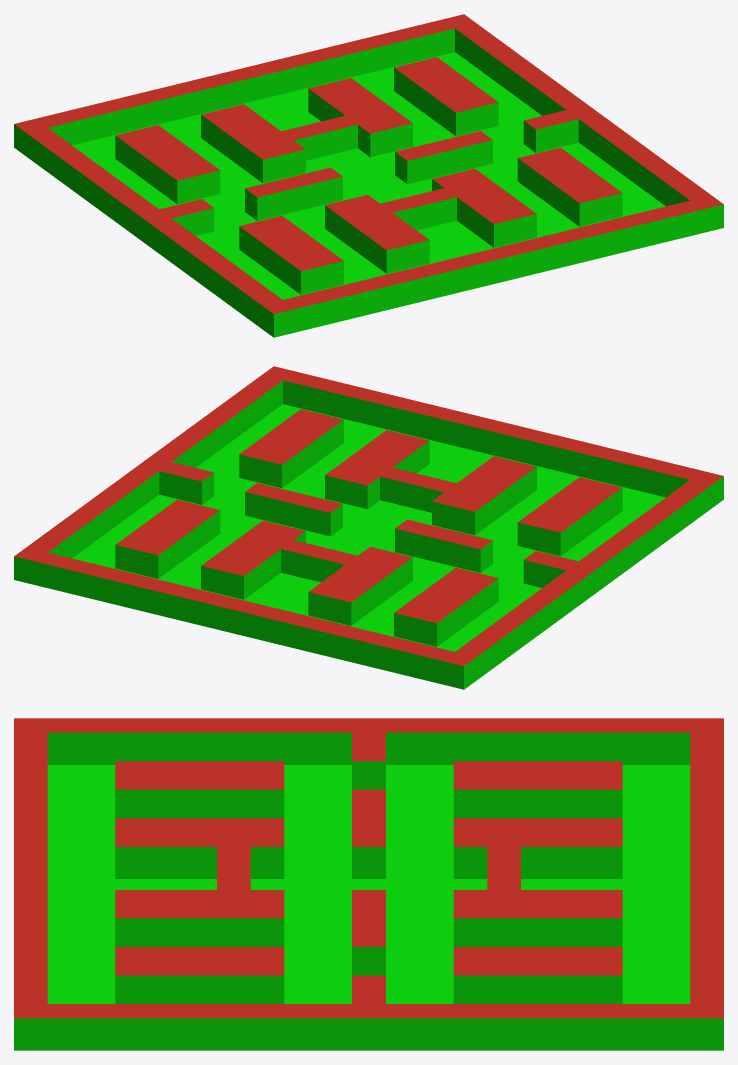
File: tank_battle.fbx
3 views of the same model, one above another, from view 1: azimuth 30°, elevation 25°; view 2: azimuth 150°, elevation 25°; view 3: azimuth 270°, elevation 25° (orthographic). The views are drawn at different scales.
Parts seen in each view (by area): view 1: Plane; view 2: Plane; view 3: Plane.
Part boxes in pixels (x1,y1,x2,y2): Plane: [14, 14, 723, 337]; Plane: [14, 366, 723, 689]; Plane: [14, 718, 723, 1050].
Size of the model in its own units: 4000 by 200 by 4000.
